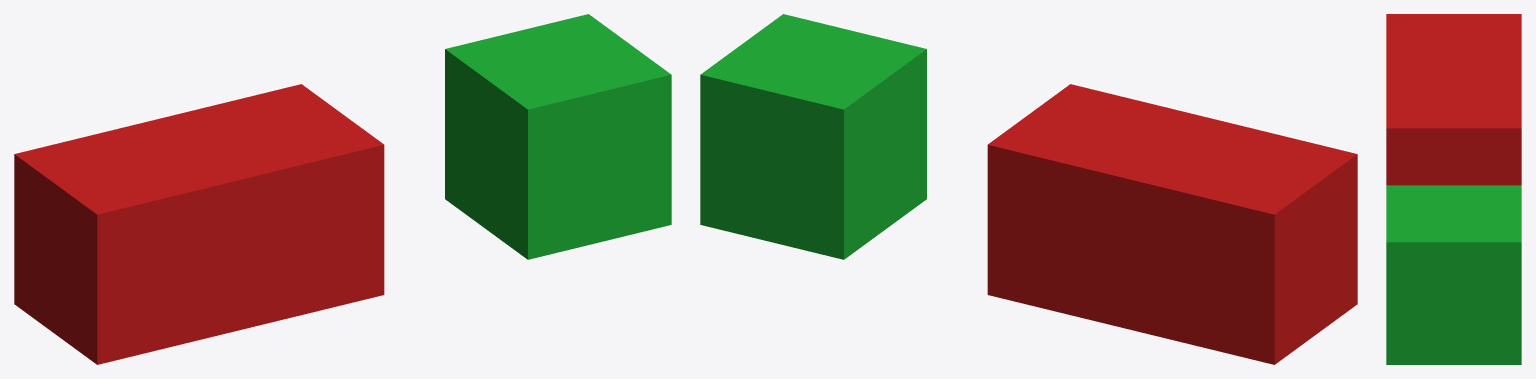
3 renders of one model, left to right at view 1: azimuth 30°, elevation 25°; view 2: azimuth 150°, elevation 25°; view 3: azimuth 270°, elevation 25°, orthographic. The views are drawn at different scales.
Visible parts, largest first — view 1: Red box, Green box; view 2: Red box, Green box; view 3: Green box, Red box.
Part boxes in pixels (bbox=[...]): Red box: bbox=[14, 84, 384, 364]; Green box: bbox=[445, 14, 671, 259]; Red box: bbox=[987, 84, 1357, 364]; Green box: bbox=[700, 14, 926, 259]; Green box: bbox=[1386, 185, 1521, 364]; Red box: bbox=[1386, 14, 1521, 185].
Bounding box in the file's own units: 4 × 1 × 1.
